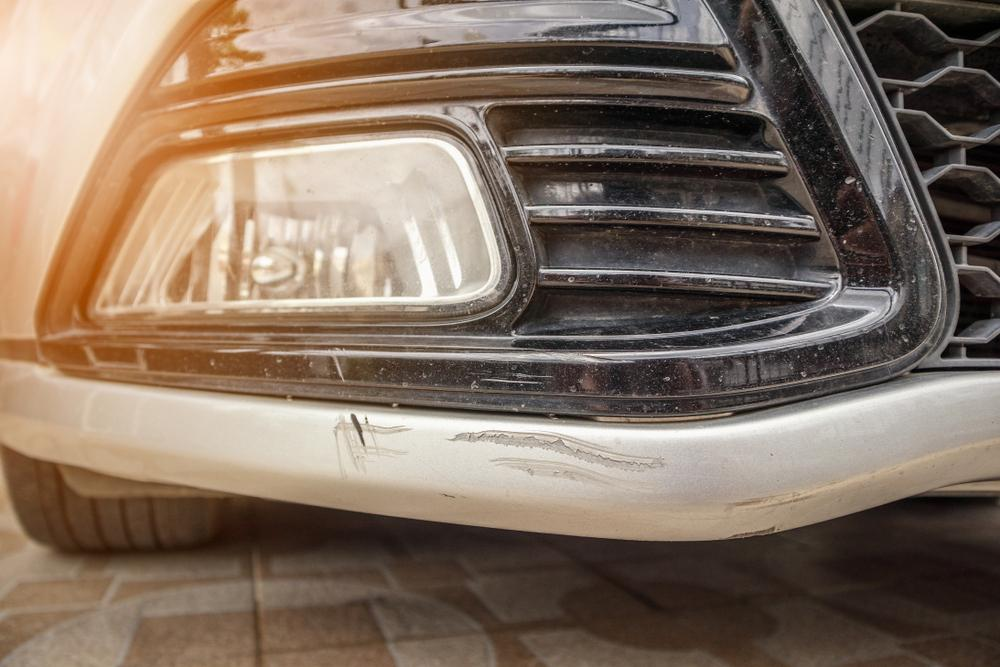scratch: (445, 421, 675, 488), (458, 347, 632, 390), (328, 407, 414, 480), (716, 481, 813, 543)
